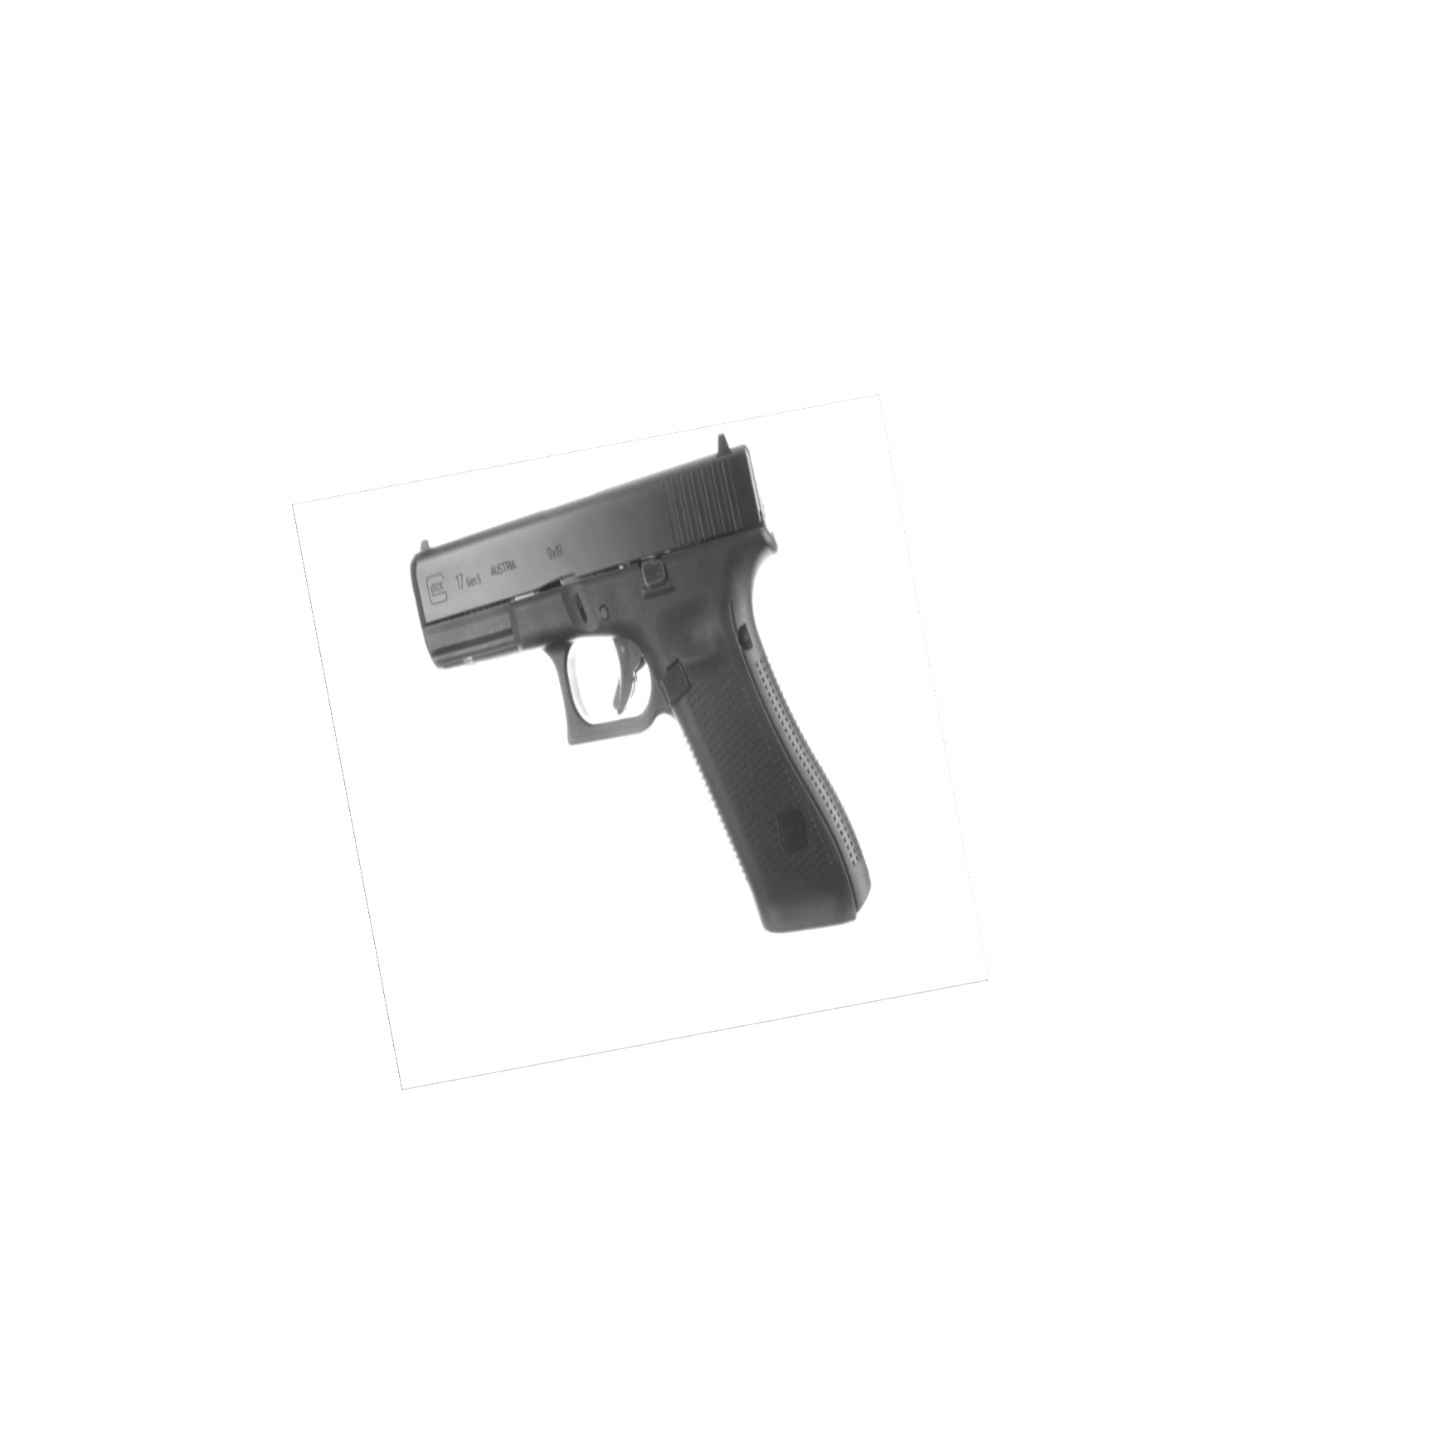gun: (412, 435, 874, 932)
